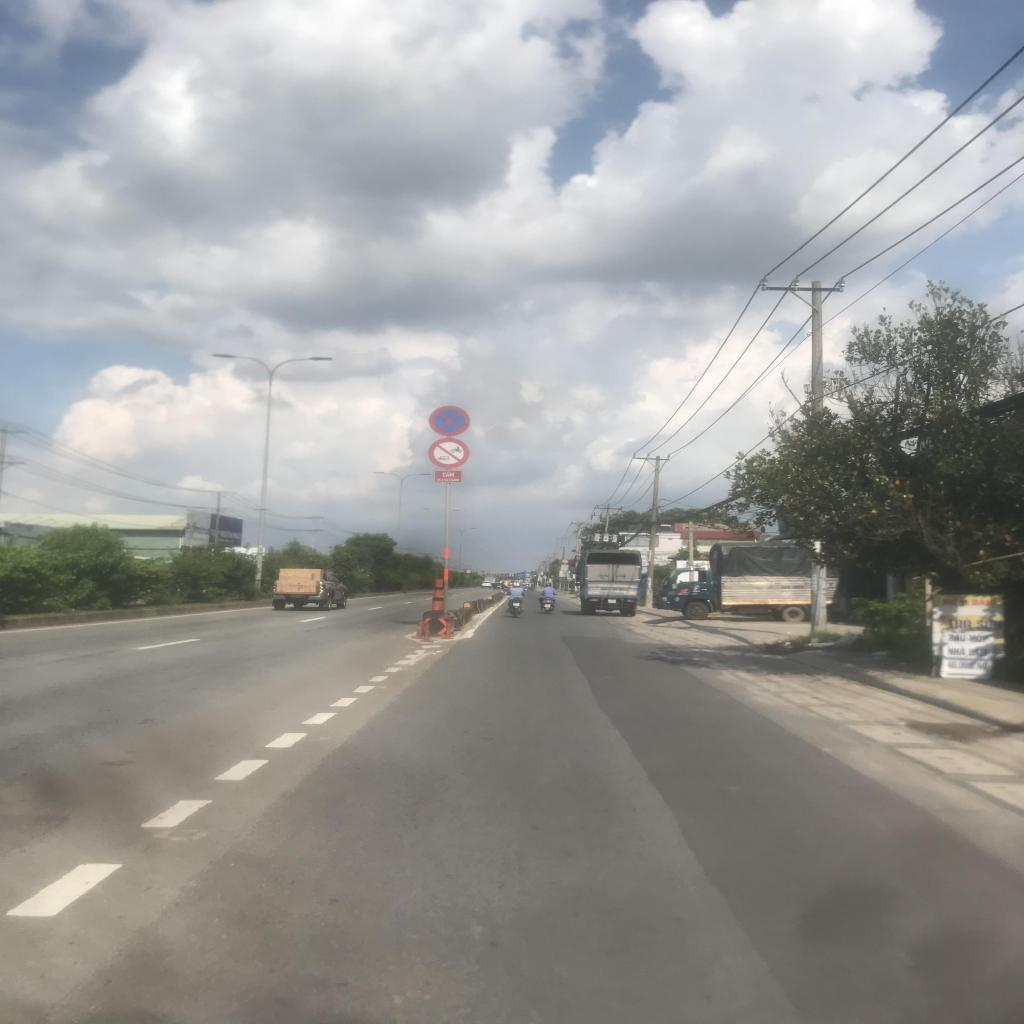cam_dung_xe_va_do_xe: (429, 405, 470, 436)
cam_o_to_tai_va_xe_khach: (562, 558, 569, 564)
cam_xe_2_banh_va_xe_3_banh_co_dong_co: (428, 438, 470, 468)
khac: (559, 570, 570, 577), (560, 564, 568, 570)
